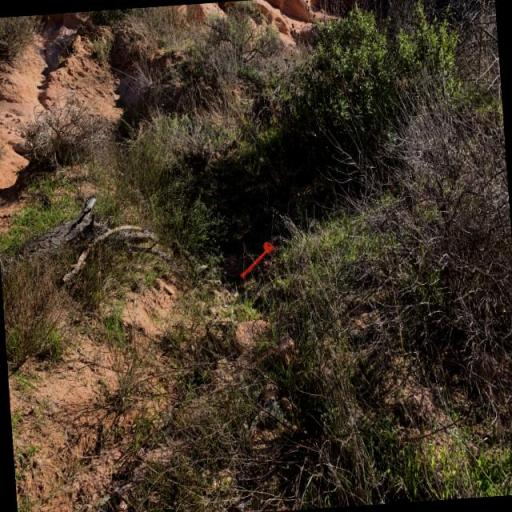mallet: (233, 238, 284, 280)
